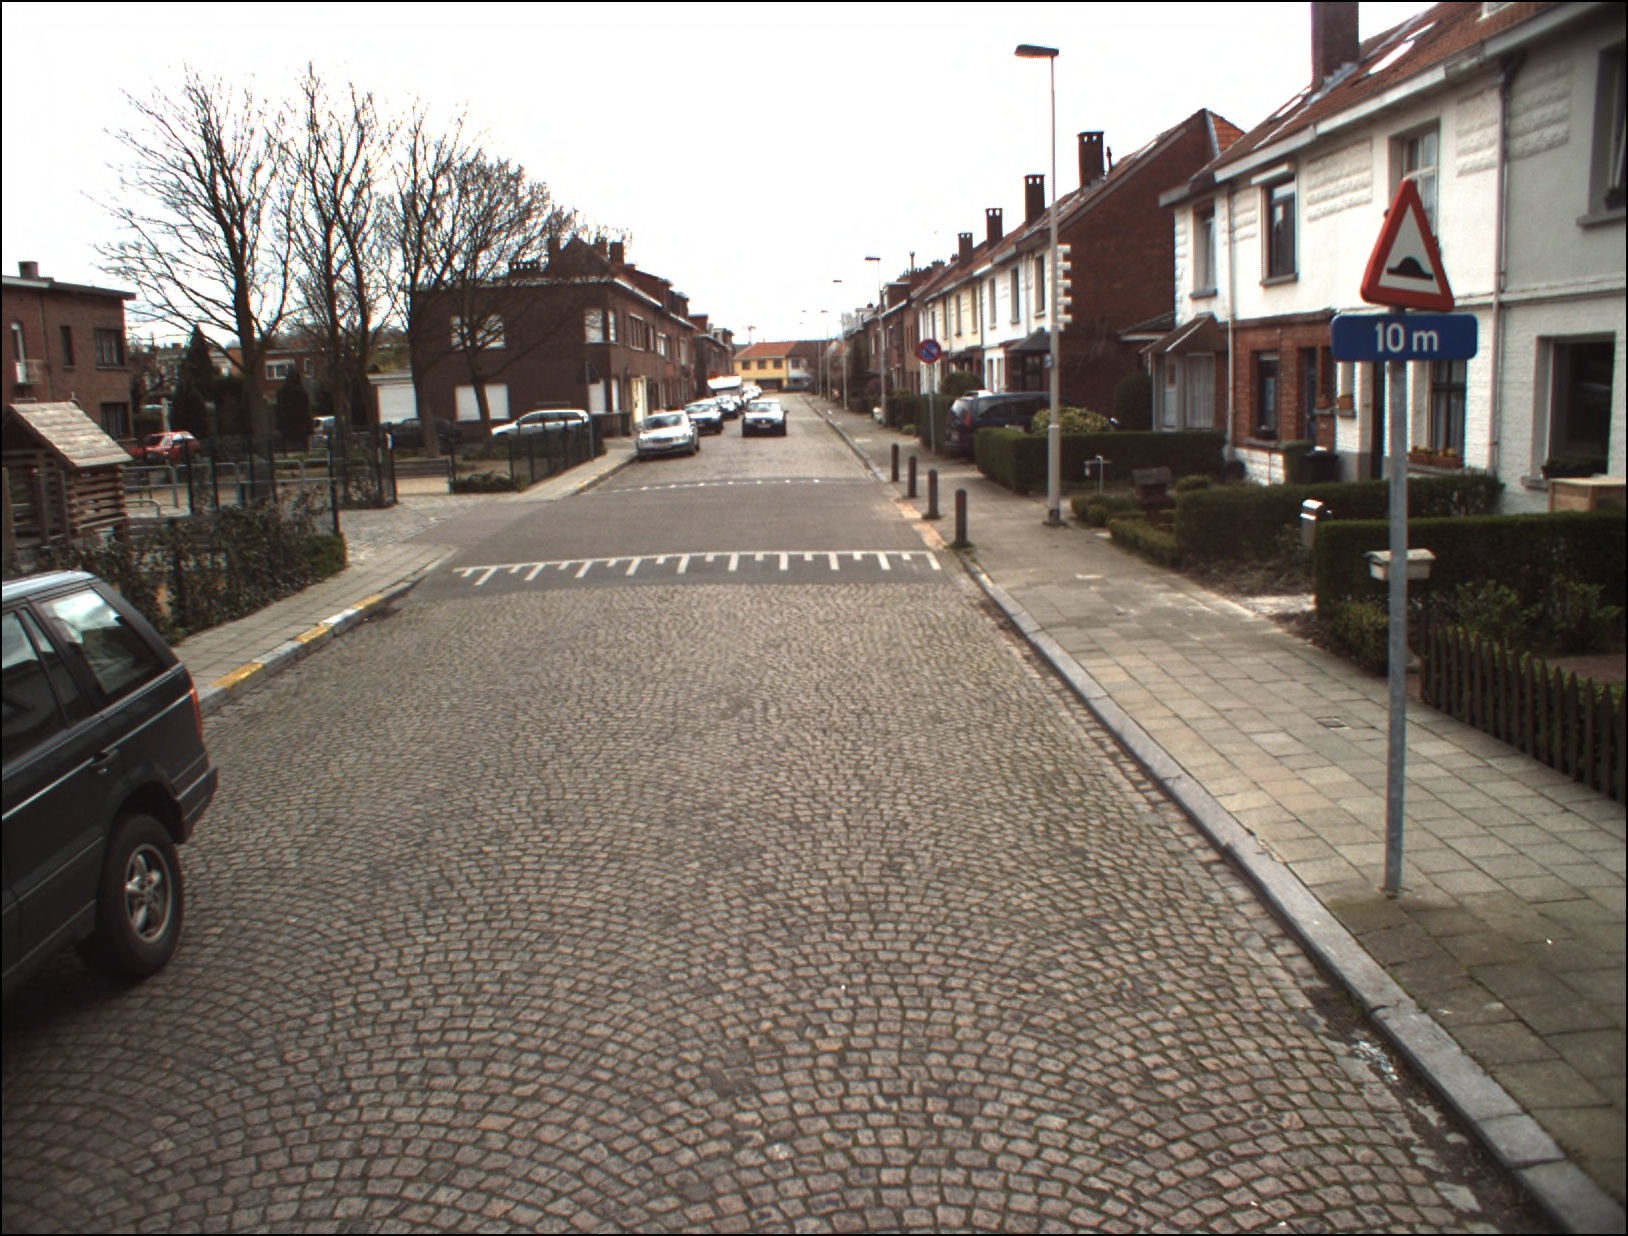speedbump: (1357, 177, 1461, 313)
